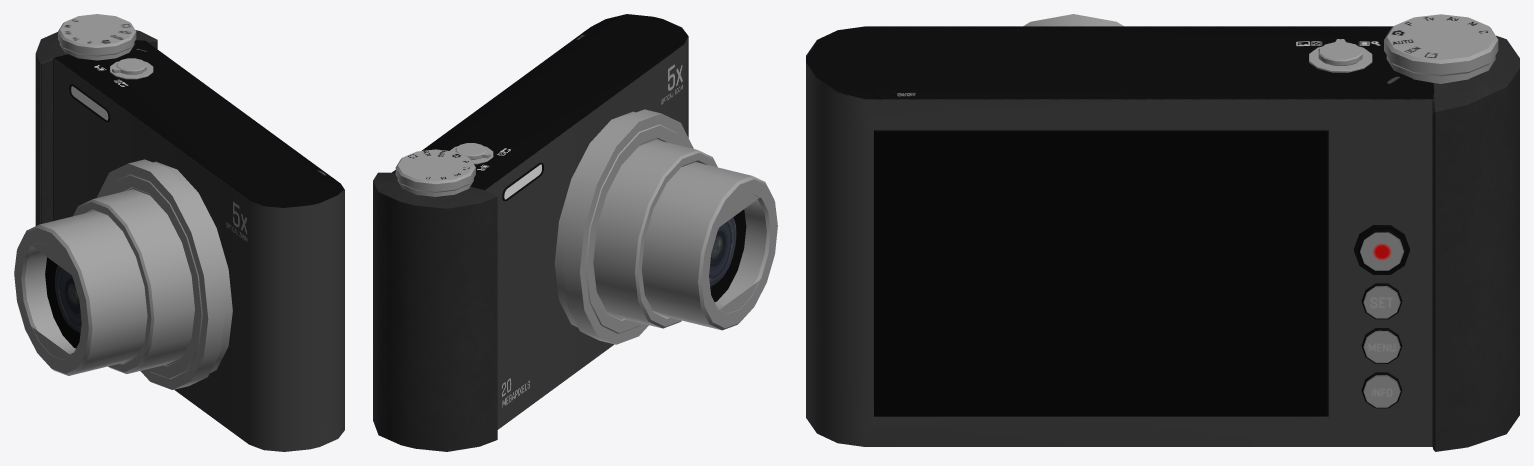
File: Digital_Camera.fbx
The picture shows the model from 3 angles, left to right: view 1: azimuth 30°, elevation 25°; view 2: azimuth 150°, elevation 25°; view 3: azimuth 270°, elevation 25°; orthographic projection. The views are drawn at different scales.
Visible parts, largest first — view 1: Digital_Camera; view 2: Digital_Camera; view 3: Digital_Camera.
Boxes of the visible parts, x1,y1,x2,y2 form: Digital_Camera: (14, 14, 344, 451); Digital_Camera: (373, 14, 777, 451); Digital_Camera: (806, 14, 1519, 451).
Size of the model in its own units: 8.14 by 8.75 by 15.
1 material, 1 textured.
